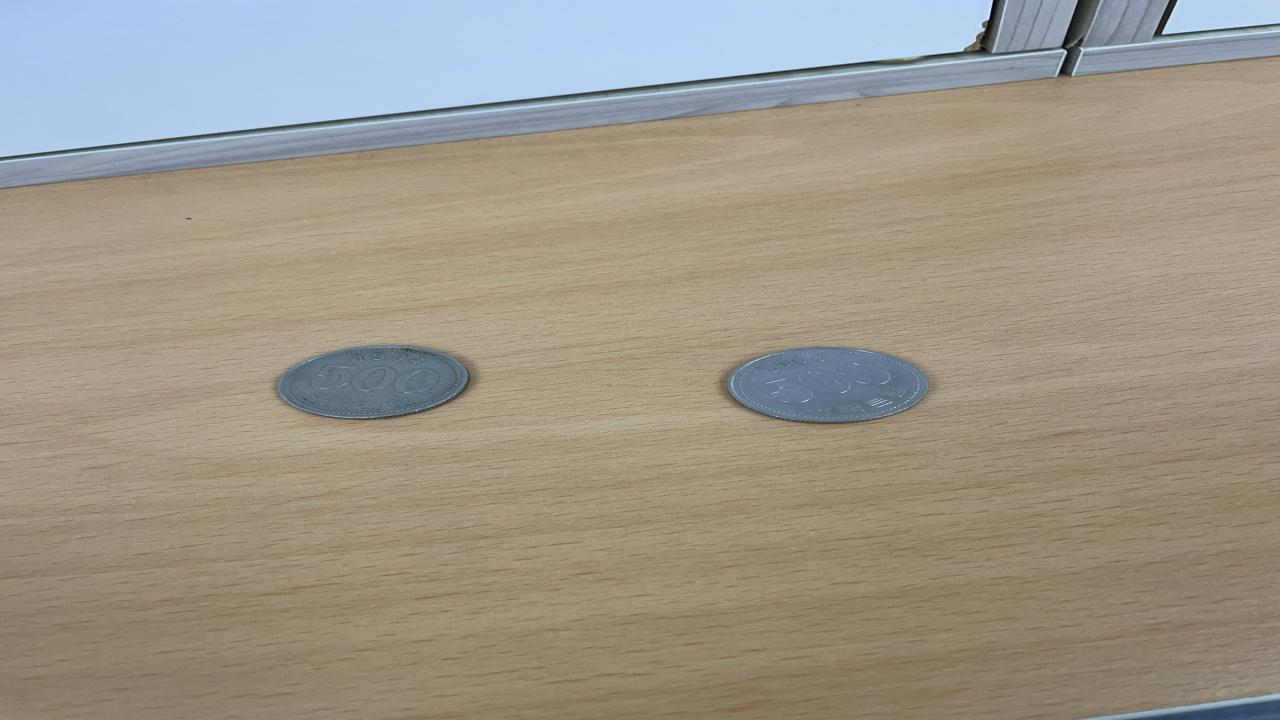coin: (724, 346, 929, 424), (274, 346, 471, 420)
